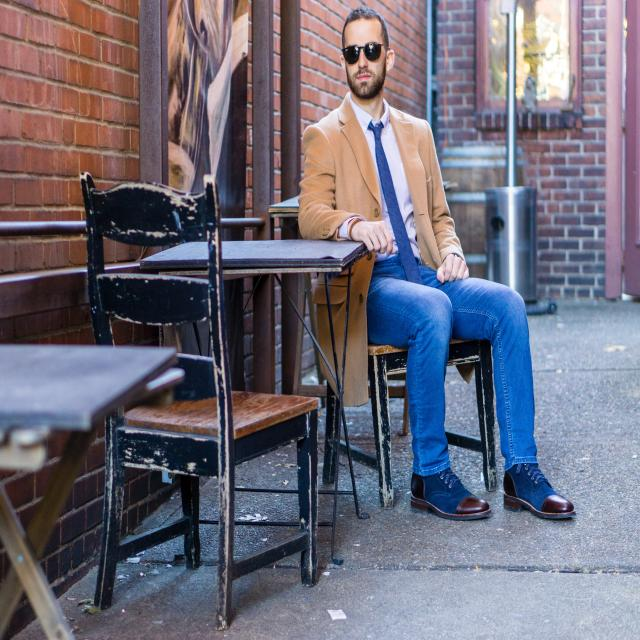nonfall: (318, 3, 582, 547)
